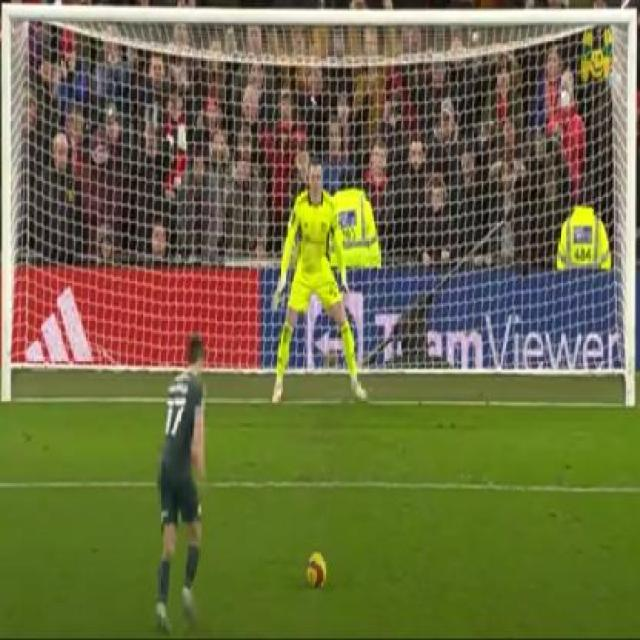ball: (305, 549, 326, 589)
cage: (0, 0, 638, 407)
gardien: (268, 162, 369, 404)
joueur: (150, 331, 208, 634)
